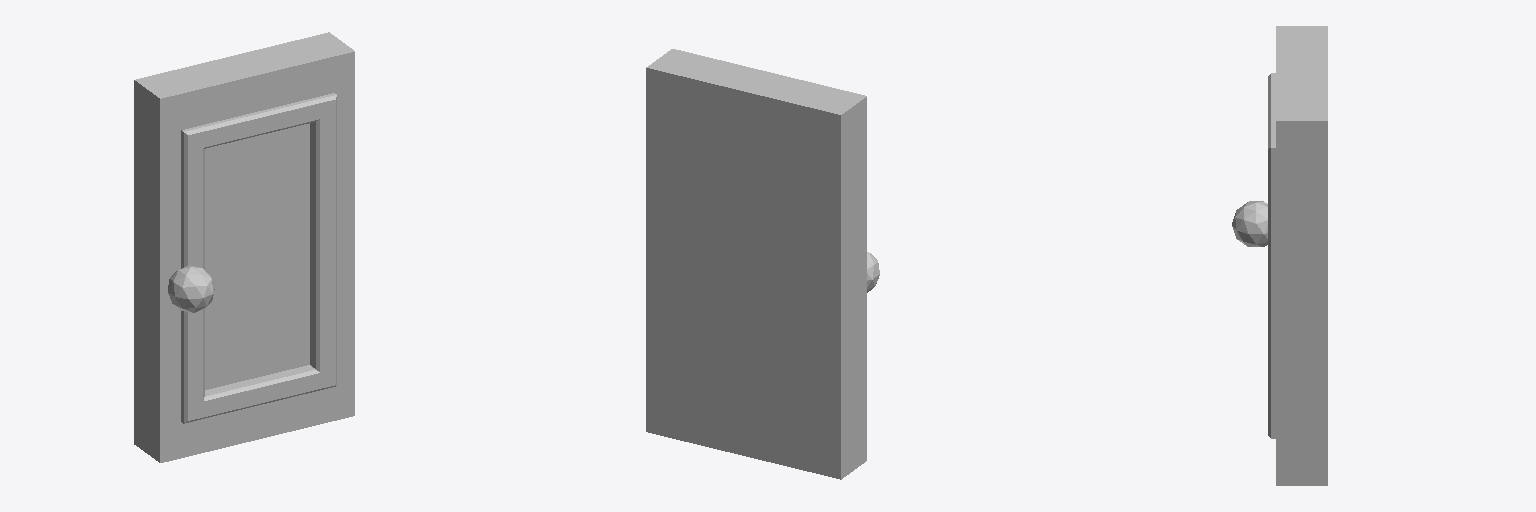
The model's file is bakery_B_door.obj.
3 renders of one model, left to right at view 1: azimuth 30°, elevation 25°; view 2: azimuth 150°, elevation 25°; view 3: azimuth 270°, elevation 25°, orthographic.
Parts seen in each view (by area): view 1: bakery_B_door; view 2: bakery_B_door; view 3: bakery_B_door.
Boxes of the visible parts, <box> form: bakery_B_door: <box>134,32,354,462</box>; bakery_B_door: <box>646,49,879,479</box>; bakery_B_door: <box>1232,26,1327,485</box>.
Size of the model in its own units: 1.4 by 2.5 by 0.6016.